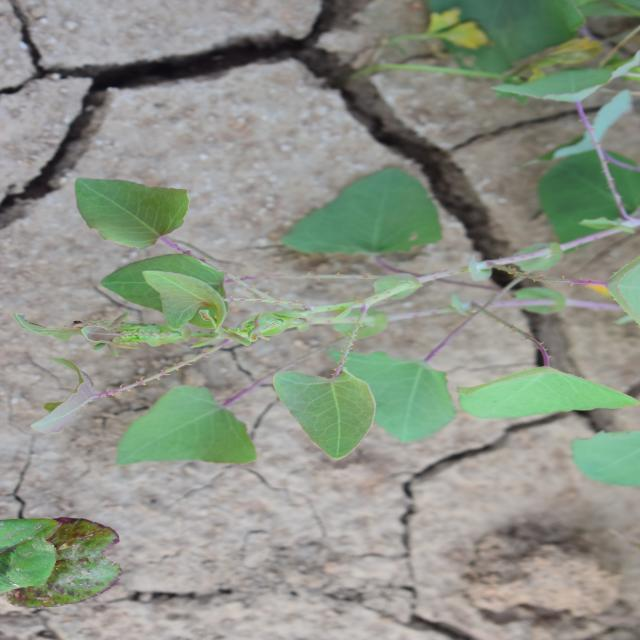Asiatic_Smartweed: (173, 180, 465, 602)
